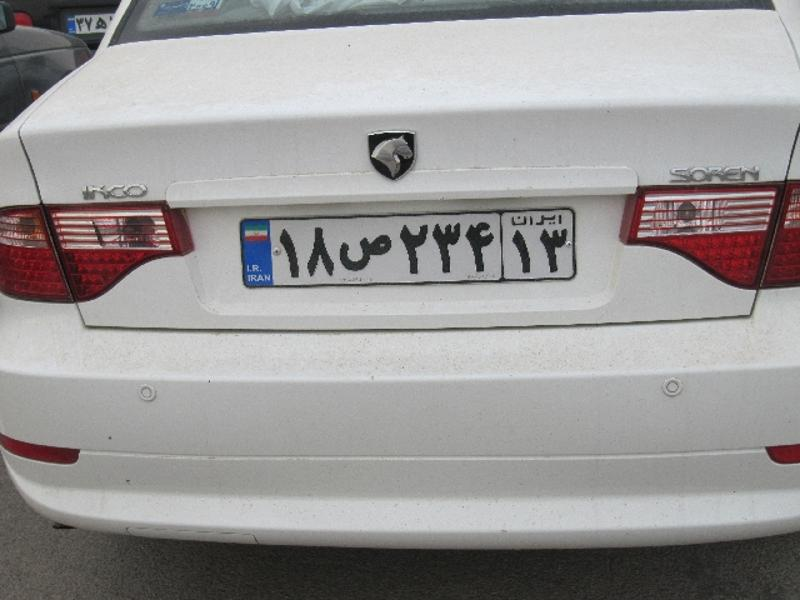Plate: (221, 212, 586, 302)
